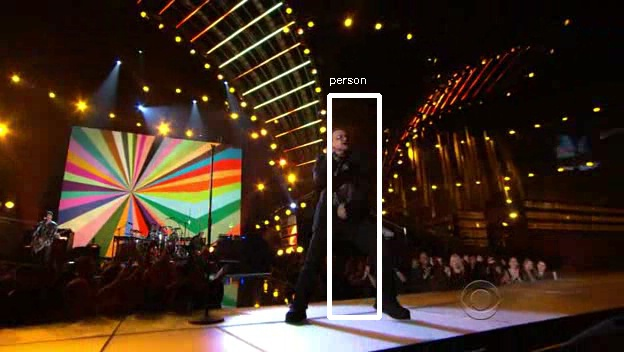person: (308, 131, 375, 253), (305, 131, 372, 253), (311, 131, 378, 253), (308, 128, 375, 250), (308, 134, 375, 256)
target_negative: (270, 108, 569, 230), (224, 128, 345, 350), (393, 179, 609, 281), (459, 33, 525, 178), (348, 279, 516, 316), (200, 266, 302, 304)
